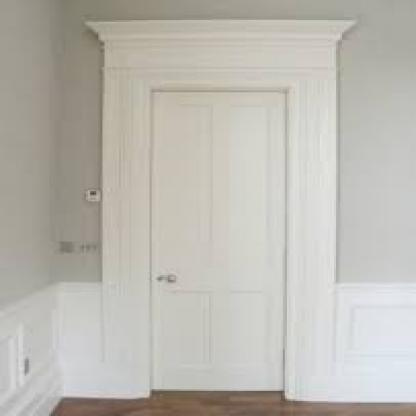door: (113, 34, 307, 383)
